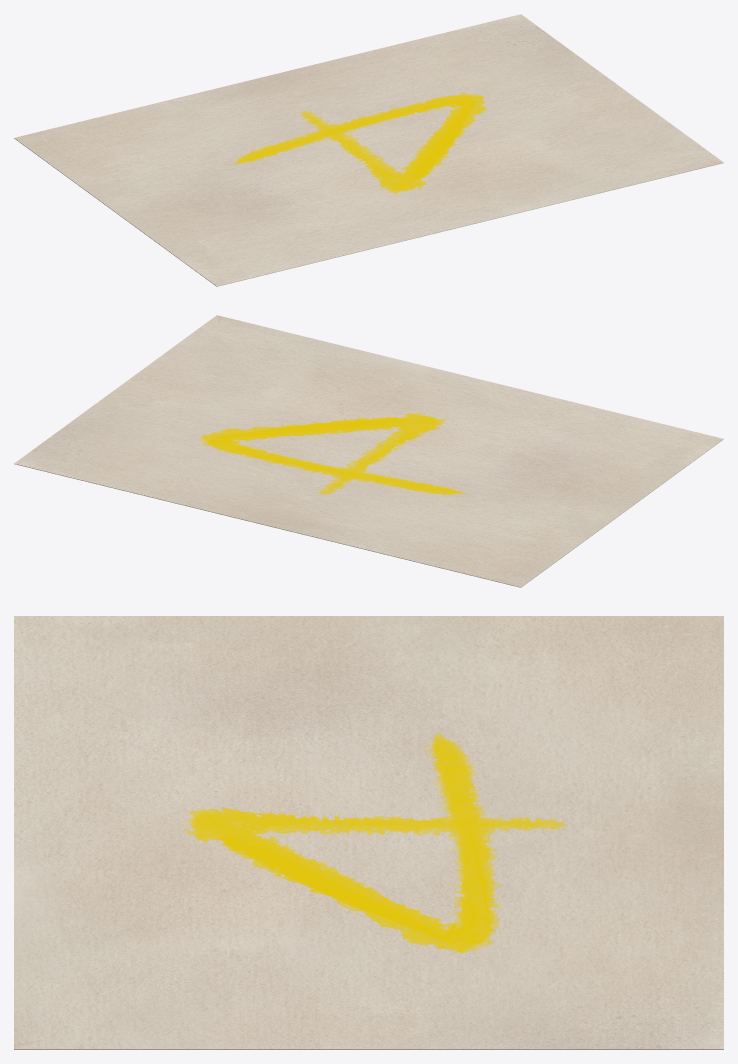
The model's file is sari4.fbx.
3 renders of one model, top to bottom at view 1: azimuth 30°, elevation 25°; view 2: azimuth 150°, elevation 25°; view 3: azimuth 270°, elevation 25°, orthographic. The views are drawn at different scales.
Visible parts, largest first — view 1: clementine_kag─▒t; view 2: clementine_kag─▒t; view 3: clementine_kag─▒t.
Part boxes in pixels (x1,y1,x2,y2): clementine_kag─▒t: [14, 14, 723, 286]; clementine_kag─▒t: [14, 315, 723, 587]; clementine_kag─▒t: [14, 616, 723, 1049].
Bounding box in the file's own units: 1611 × 1.43 × 1116.
1 material, 1 textured.
